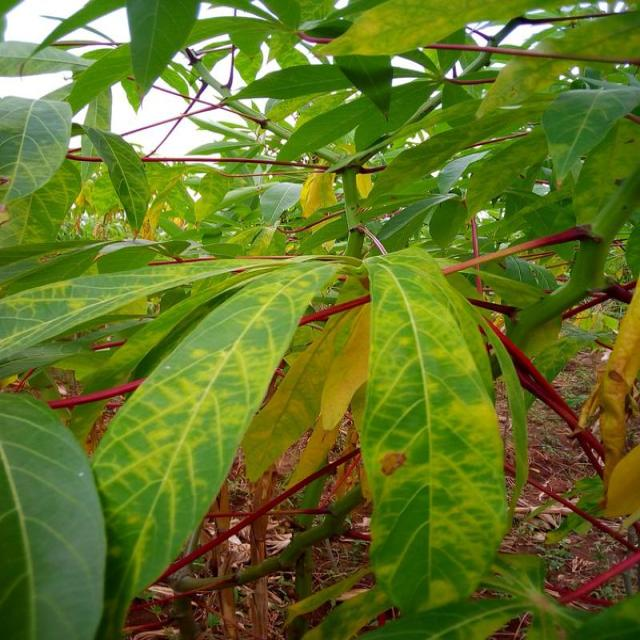cassava leaf: (89, 256, 343, 637), (360, 246, 511, 616), (1, 388, 108, 638)
